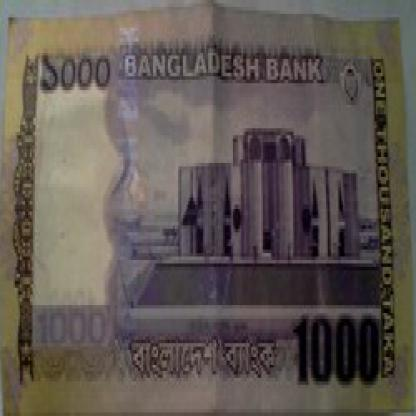One Thousand taka: (288, 312, 386, 395), (38, 52, 112, 101), (33, 305, 113, 350)
